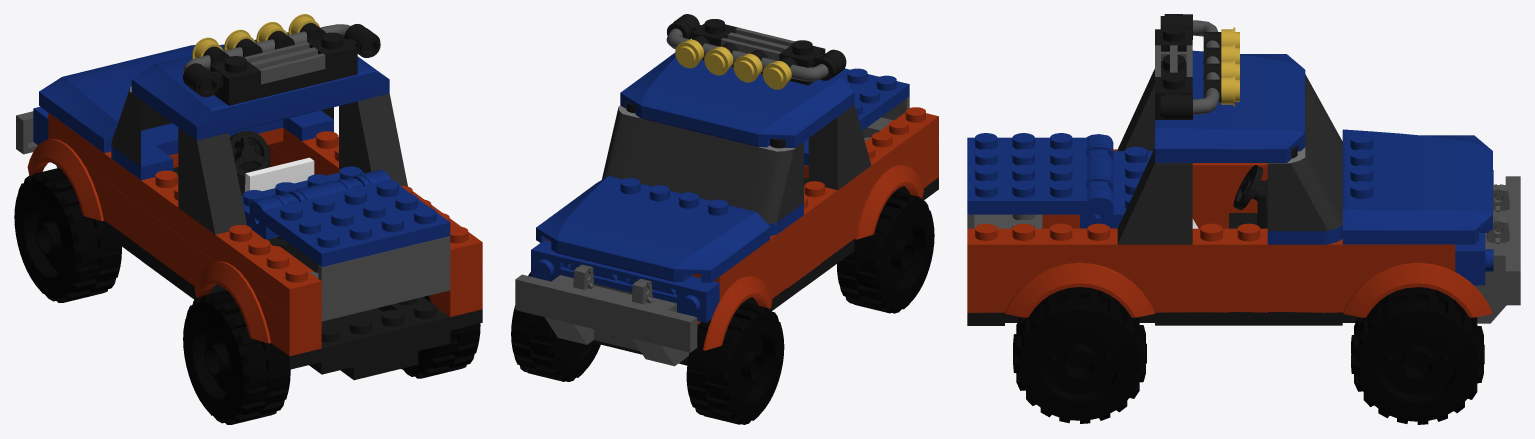
Rendered from car.glb.
3 renders of one model, left to right at view 1: azimuth 30°, elevation 25°; view 2: azimuth 150°, elevation 25°; view 3: azimuth 270°, elevation 25°, orthographic. The views are drawn at different scales.
Visible parts, largest first — view 1: Lego_car:part4619005_Lego_car:pCylinder1, polySurface127, Lego_car:part4613762_Lego_car:polySurface3, Lego_car:part4619022_Lego_car:pCylinder1, Lego_car:pPipe47, Lego_car:pSphere3, polySurface205, polySurface194, Lego_car:pCube1.001, polySurface11, polySurface204, Lego_car:pSphere5 (+16 smaller); view 2: Lego_car:part4619022_Lego_car:pCylinder1, polySurface205, polySurface196, Lego_car:pCube4, Lego_car:pPipe47, polySurface127, Lego_car:pSphere3, Lego_car:part4619005_Lego_car:pCylinder1, Lego_car:pPipe48, polySurface194, Lego_car:part4613762_Lego_car:polySurface3, polySurface238 (+6 smaller); view 3: polySurface127, Lego_car:part4619022_Lego_car:pCylinder1, Lego_car:part4619005_Lego_car:pCylinder1, Lego_car:pPipe48, Lego_car:pSphere5, Lego_car:part4613762_Lego_car:polySurface3, polySurface205, polySurface196, polySurface204, Lego_car:pCube4, Lego_car:part4619012_Lego_car:pCylinder2, polySurface194 (+7 smaller).
Part boxes in pixels (x1,y1,x2,y2): Lego_car:part4619005_Lego_car:pCylinder1: (48, 113, 482, 315); polySurface127: (27, 139, 482, 356); Lego_car:part4613762_Lego_car:polySurface3: (241, 166, 450, 267); Lego_car:part4619022_Lego_car:pCylinder1: (33, 44, 333, 180); Lego_car:pPipe47: (14, 168, 121, 302); Lego_car:pSphere3: (183, 290, 290, 424); polySurface205: (131, 32, 389, 140); polySurface194: (178, 127, 246, 234); Lego_car:pCube1.001: (317, 236, 450, 307); polySurface11: (271, 302, 482, 369); polySurface204: (339, 93, 407, 186); Lego_car:pSphere5: (401, 295, 480, 378); Lego_car:part4619022_Lego_car:pCylinder1: (531, 176, 803, 322); polySurface205: (620, 53, 854, 147); polySurface196: (602, 107, 803, 224); Lego_car:pCube4: (515, 264, 697, 366); Lego_car:pPipe47: (686, 302, 784, 424); polySurface127: (697, 141, 938, 350); Lego_car:pSphere3: (837, 191, 934, 313); Lego_car:part4619005_Lego_car:pCylinder1: (546, 107, 938, 300); Lego_car:pPipe48: (511, 272, 600, 381); polySurface194: (808, 105, 871, 190); Lego_car:part4613762_Lego_car:polySurface3: (804, 68, 909, 165); polySurface238: (721, 27, 794, 60); polySurface127: (967, 192, 1492, 317); Lego_car:part4619022_Lego_car:pCylinder1: (1267, 129, 1493, 285); Lego_car:part4619005_Lego_car:pCylinder1: (967, 149, 1455, 271); Lego_car:pPipe48: (1351, 287, 1484, 424); Lego_car:pSphere5: (1013, 287, 1146, 423); Lego_car:part4613762_Lego_car:polySurface3: (967, 133, 1152, 228); polySurface205: (1155, 50, 1305, 162); polySurface196: (1267, 74, 1342, 231); polySurface204: (1117, 148, 1192, 244); Lego_car:pCube4: (1474, 176, 1520, 323); Lego_car:part4619012_Lego_car:pCylinder2: (1229, 165, 1267, 228); polySurface194: (1117, 68, 1154, 150).
Size of the model in its own units: 2.48 by 3.03 by 4.84.
